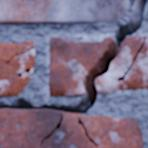brick: (42, 113, 142, 147), (0, 0, 128, 22), (0, 110, 59, 147), (0, 41, 33, 96)
broken_brick: (48, 36, 111, 96), (96, 35, 147, 94)
crack: (0, 0, 147, 147), (5, 46, 34, 64), (16, 67, 31, 77)
